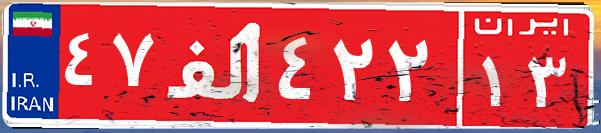1: (475, 38, 525, 113)
2: (385, 28, 445, 110), (330, 28, 385, 110)
3: (525, 38, 570, 115)
4: (273, 28, 330, 110), (57, 26, 110, 107)
7: (110, 28, 158, 105)
الف: (158, 15, 273, 115)
